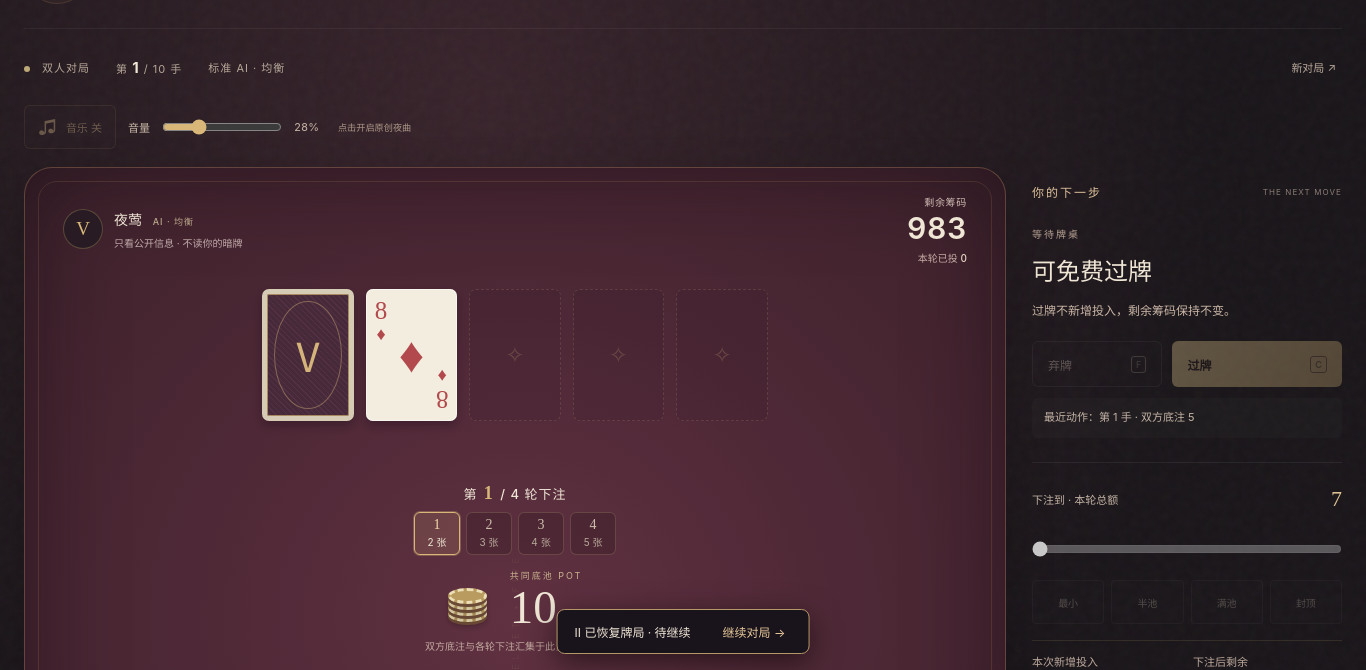
clear stakes and retrospective advice › explains the only legal short effective all-in instead of an impossible minimum
The width and height of the screenshot is (1366, 670).
Click the button "继续对局 →" at (754, 632), box left=717, top=622, right=791, bottom=641
(page scrolled)
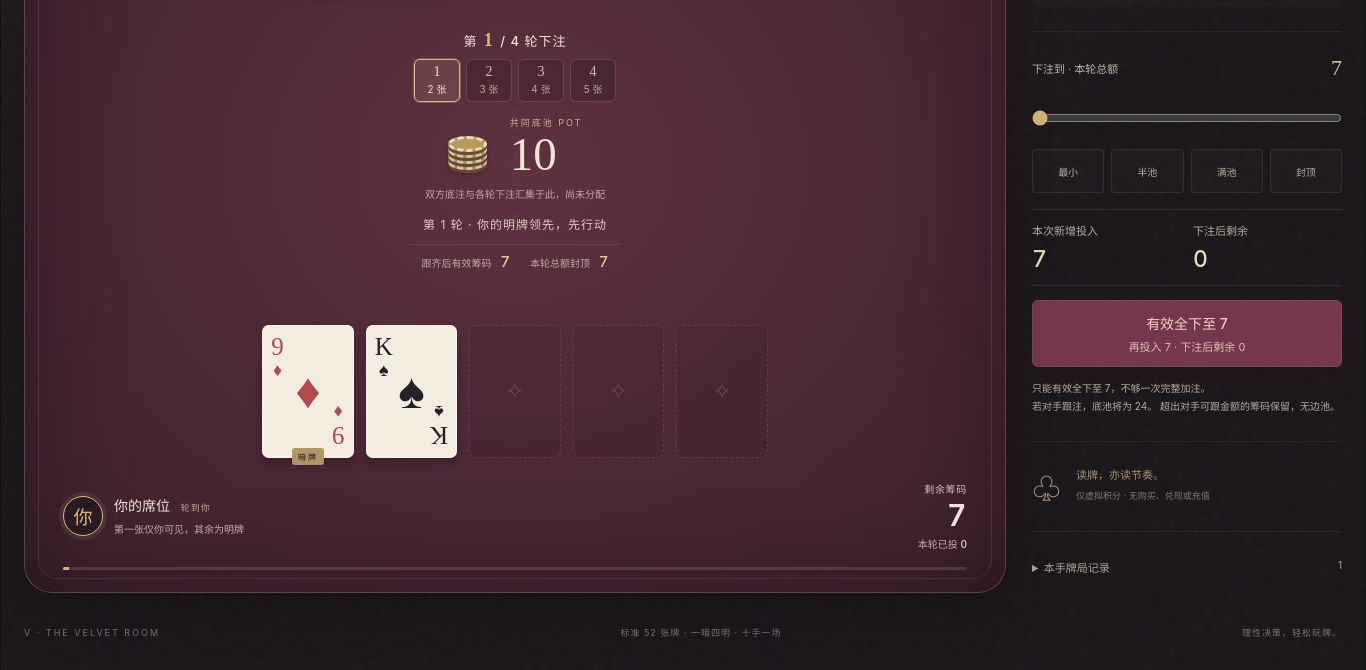
Expected: the text "只能有效全下至 7，不够一次完整加注。若对手跟注，底池将为 24。 超出对手可跟金额的筹码保留，无边池。" is shown, left=1032, top=379, right=1342, bottom=415
Click the button "有效全下至 7 再投入 7 · 下注后剩余 0" at (1187, 334), box left=1032, top=300, right=1342, bottom=367
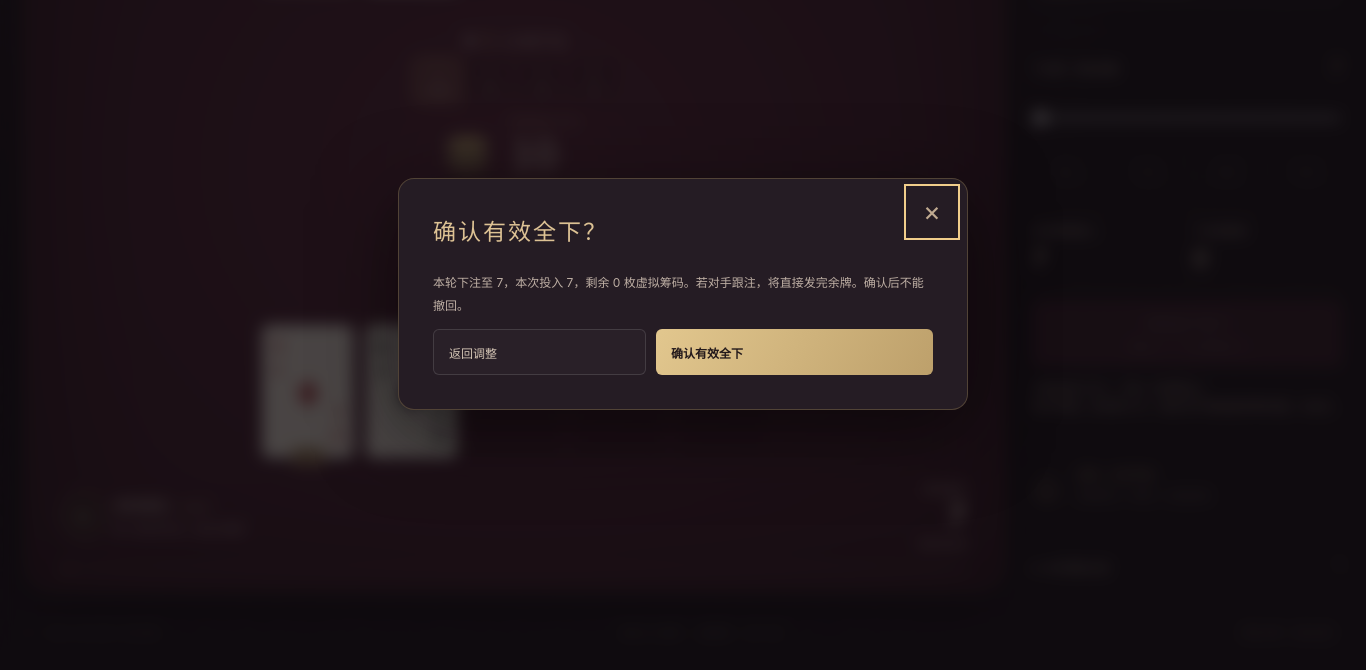
Now the dialog shows "本次投入 7", box left=398, top=178, right=968, bottom=410
